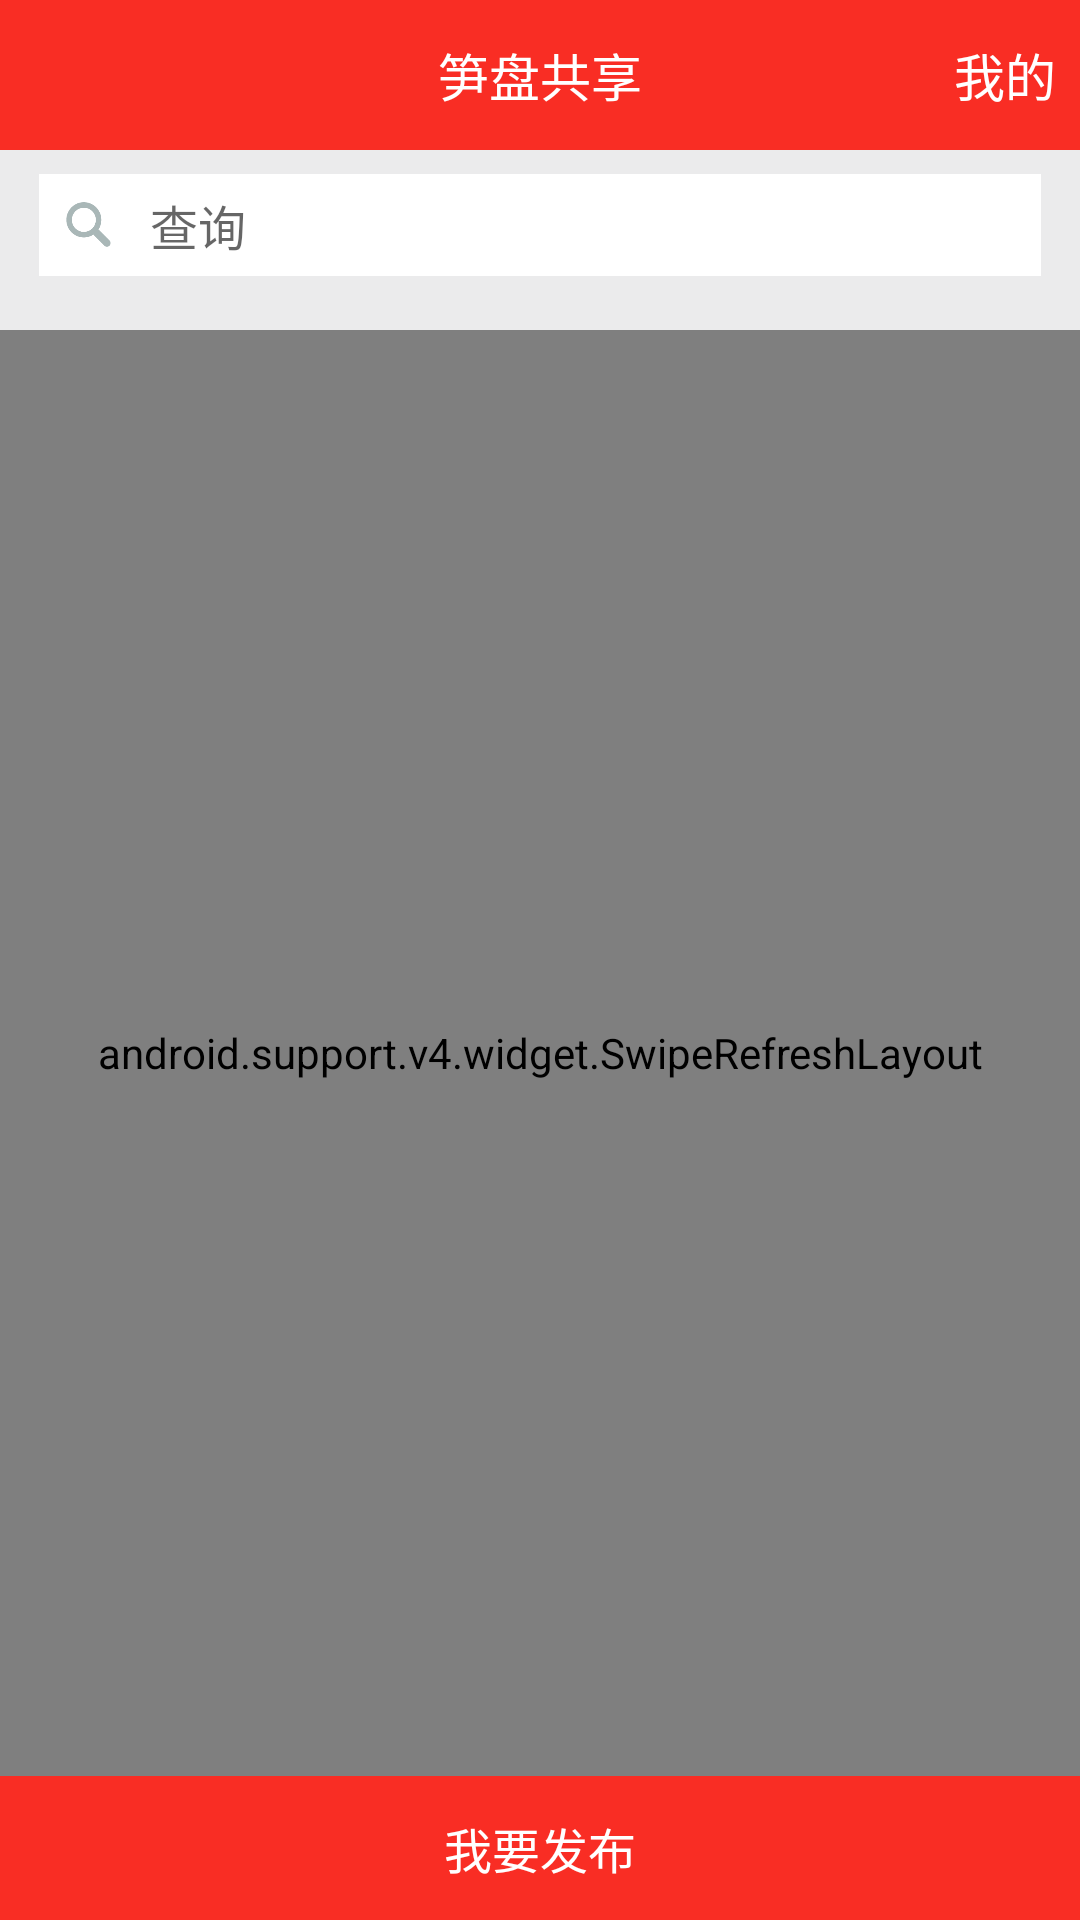

Named icons in this screenshot (1080w x 1920h) and their centers, (x=x, y=y):
search: (x=88, y=224)
